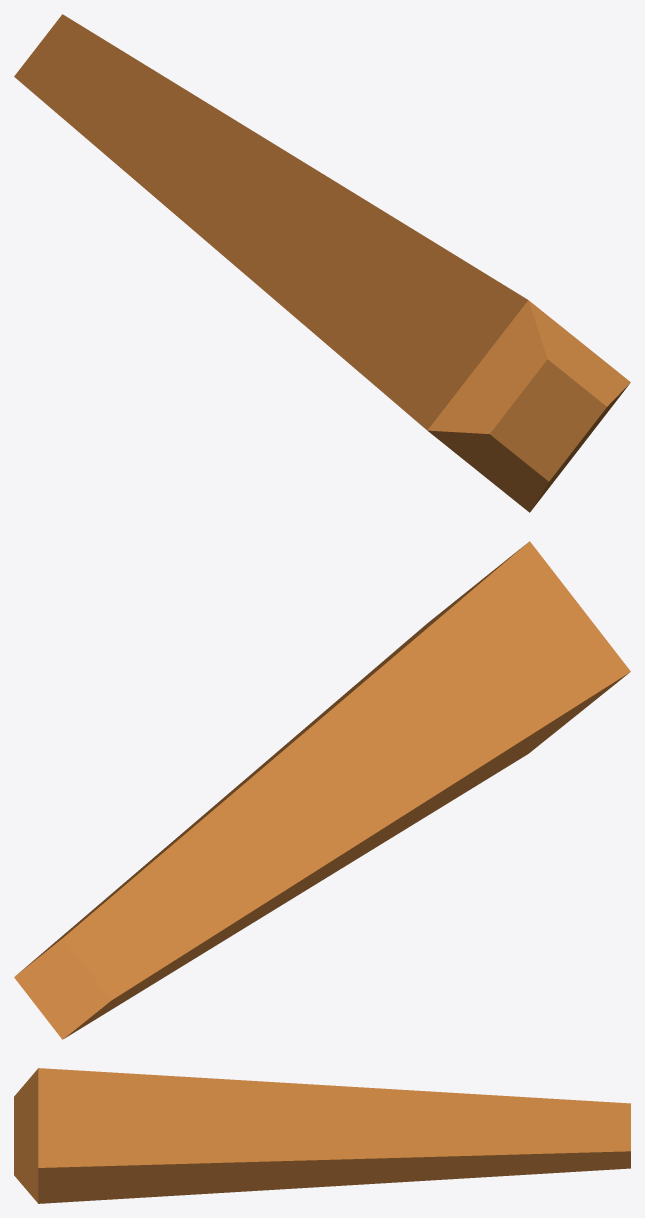
Rendered from Prop_Gothic_Wood_Peg_01.FBX.
3 views of the same model, one above another, from view 1: azimuth 30°, elevation 25°; view 2: azimuth 150°, elevation 25°; view 3: azimuth 270°, elevation 25° (orthographic). The views are drawn at different scales.
Visible parts, largest first — view 1: Prop_Gothic_Wood_Peg_01; view 2: Prop_Gothic_Wood_Peg_01; view 3: Prop_Gothic_Wood_Peg_01.
Boxes of the visible parts, x1,y1,x2,y2 form: Prop_Gothic_Wood_Peg_01: [14, 14, 630, 512]; Prop_Gothic_Wood_Peg_01: [14, 541, 630, 1039]; Prop_Gothic_Wood_Peg_01: [14, 1068, 630, 1203].
Bounding box in the file's own units: 28.22 × 28.22 × 117.
